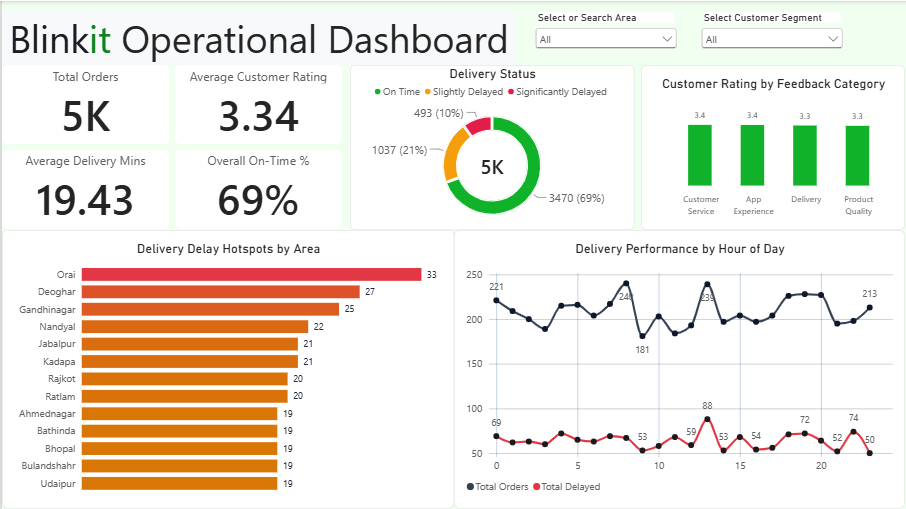

The dashboard page shown, as its layout file describes it:
{"tool":"powerbi","page":{"name":"Page 1","canvas":[1280,720],"ordinal":0},"visuals":[{"type":"cardVisual","fields":{"Data":["_Measures.Total Orders","_Measures.Average Customer Rating","_Measures.Aveage Delivery Time","_Measures.Overall On-Time %"]},"box":[0,90.7,483.3,233.9],"z":0},{"type":"clusteredBarChart","title":"Delivery Delay Hotspots by Area","fields":{"Category":["blinkit_cleaned.area"],"Y":["_Measures.Delayed Orders"]},"box":[0,324.6,640.6,395.4],"z":2000},{"type":"clusteredColumnChart","title":"Customer Rating by Feedback Category","fields":{"Category":["blinkit_cleaned.feedback_category"],"Y":["_Measures.Average Customer Rating"]},"box":[905.7,90.7,374.2,233.9],"z":3000},{"type":"donutChart","title":"Delivery Status","fields":{"Category":["blinkit_cleaned.delivery_status"],"Y":["_Measures.Total Orders"]},"box":[493.2,90.7,402.5,233.9],"z":4000},{"type":"textbox","box":[0,15.6,728.5,75.1],"z":5000},{"type":"slicer","fields":{"Values":["blinkit_cleaned.area"]},"box":[751.2,15.6,209.8,75.1],"z":6000},{"type":"slicer","fields":{"Values":["blinkit_cleaned.customer_segment"]},"box":[986.5,15.6,209.8,75.1],"z":7000},{"type":"lineChart","title":"Delivery Performance by Hour of Day","fields":{"Category":["blinkit_cleaned.Order_Hour"],"Y":["_Measures.Total Orders","_Measures.Total Delayed"]},"box":[640.6,324.6,639.2,395.4],"z":8000}]}

Visuals, with their boxes in screenshot pixels (x1, y1, x2, y2), scaled from the page's 1280x720 canvas onto the 906x509 screenshot:
cardVisual - _Measures.Total Orders x _Measures.Average Customer Rating: [left=0, top=64, right=342, bottom=229]
"Delivery Delay Hotspots by Area" clusteredBarChart: [left=0, top=229, right=453, bottom=508]
"Customer Rating by Feedback Category" clusteredColumnChart: [left=641, top=64, right=905, bottom=229]
"Delivery Status" donutChart: [left=349, top=64, right=634, bottom=229]
textbox: [left=0, top=11, right=516, bottom=64]
slicer - blinkit_cleaned.area: [left=532, top=11, right=680, bottom=64]
slicer - blinkit_cleaned.customer_segment: [left=698, top=11, right=847, bottom=64]
"Delivery Performance by Hour of Day" lineChart: [left=453, top=229, right=905, bottom=508]
